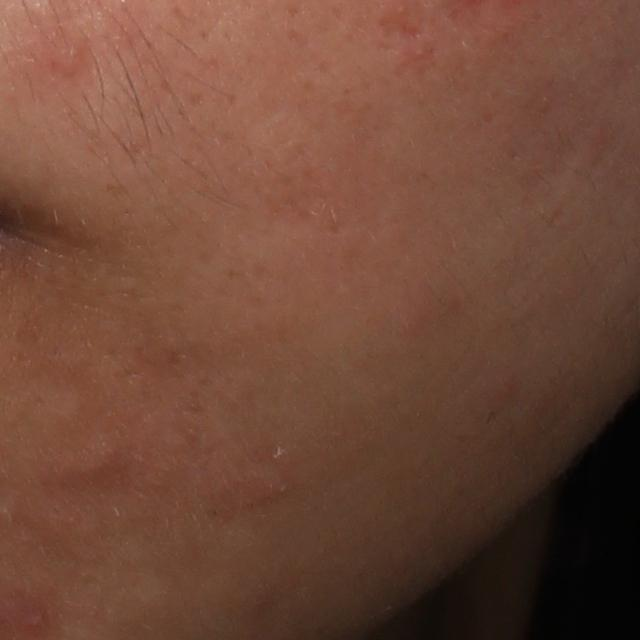hypertrophic_scar: (46, 437, 132, 487)
papule: (48, 41, 85, 78)
